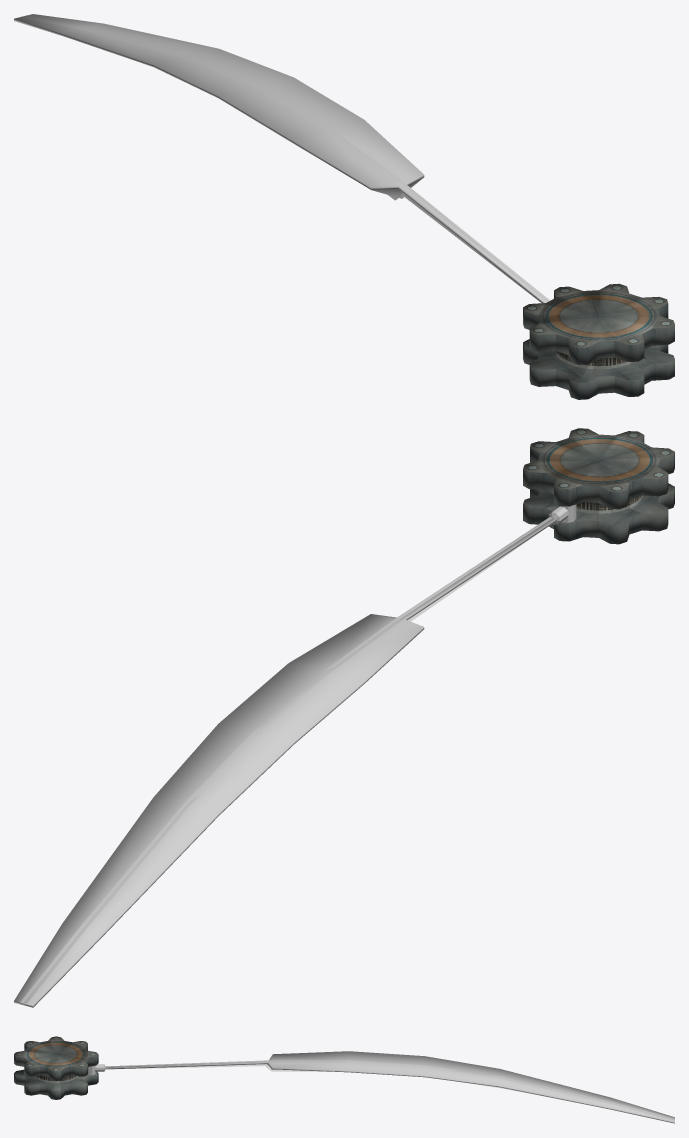
File: SolarStuff.fbx
The picture shows the model from 3 angles, top to bottom: view 1: azimuth 30°, elevation 25°; view 2: azimuth 150°, elevation 25°; view 3: azimuth 270°, elevation 25°; orthographic projection. The views are drawn at different scales.
Parts seen in each view (by area): view 1: SolarPanel, Circle.004; view 2: SolarPanel, Circle.004; view 3: SolarPanel, Circle.004.
Part boxes in pixels (x1,y1,x2,y2): SolarPanel: (14, 14, 550, 303); Circle.004: (523, 283, 674, 399); SolarPanel: (14, 504, 576, 1007); Circle.004: (523, 428, 674, 544); SolarPanel: (88, 1051, 674, 1123); Circle.004: (14, 1036, 98, 1099).
Bounding box in the file's own units: 791 × 689 × 6182.
